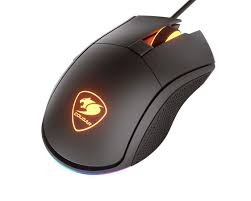mouse: (35, 11, 214, 179)
